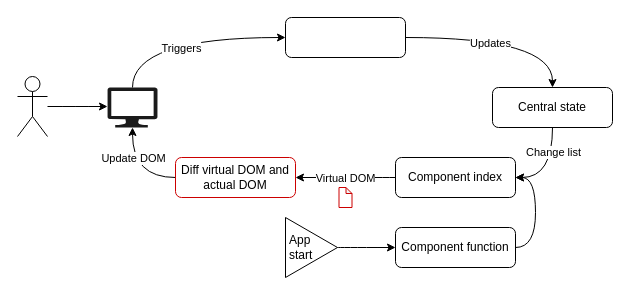
The diagram is 630 pixels wide and 295 high, and some of its shapes have lost their labels. Here are the shapes that lost their labels. From the top down, the box of each, then its label:
(284, 16, 406, 58): Event handler
(16, 76, 48, 136): User
